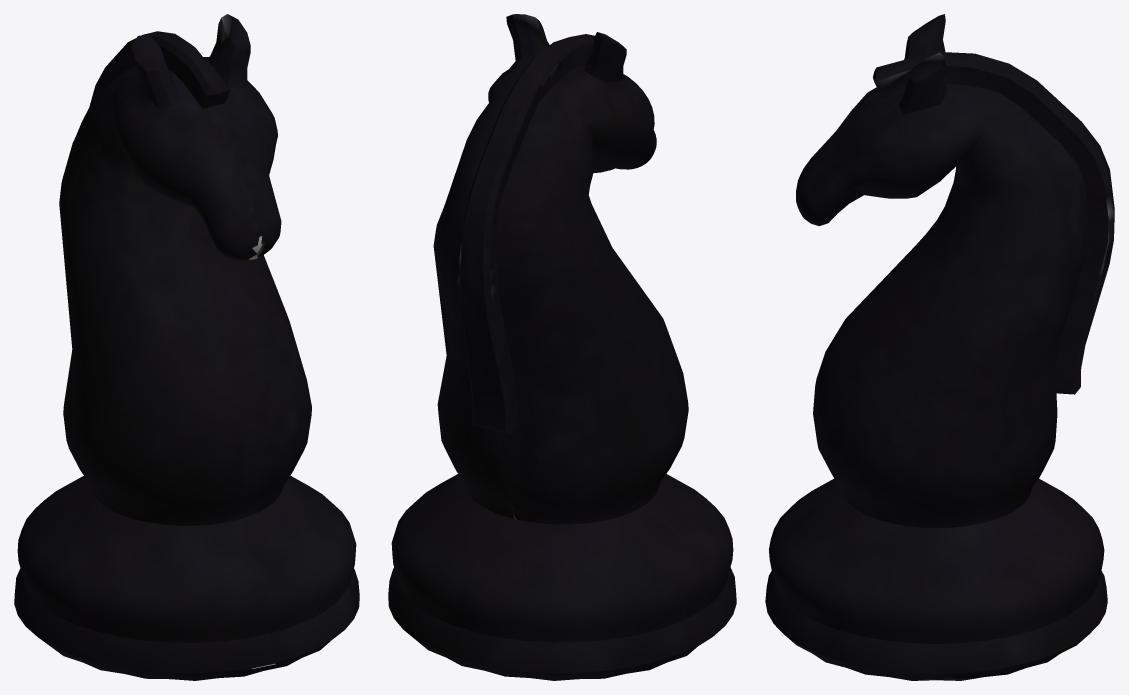
Rendered from caballo_Negras.glb.
3 views of the same model, side by side, from view 1: azimuth 30°, elevation 25°; view 2: azimuth 150°, elevation 25°; view 3: azimuth 270°, elevation 25° (orthographic).
Visible parts, largest first — view 1: defaultMaterial.023; view 2: defaultMaterial.023; view 3: defaultMaterial.023.
Part boxes in pixels (box(x1,y1,x2,y2)): defaultMaterial.023: box(14, 14, 359, 680); defaultMaterial.023: box(388, 14, 736, 680); defaultMaterial.023: box(765, 14, 1114, 680).
Bounding box in the file's own units: 0.7827 × 1.46 × 0.7982.
1 material, 1 textured.
